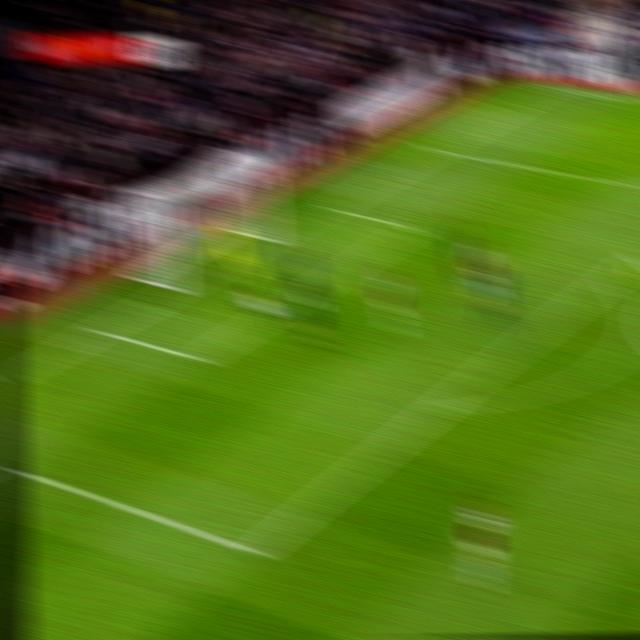bigarea_bottom_inner: (233, 531, 274, 571)
bigarea_top_outter: (419, 135, 450, 160)
bottom_arc_area_intersection: (422, 387, 461, 422)
corner: (530, 78, 566, 98)
smallarea_bottom_inner: (177, 340, 216, 375)
smallarea_bottom_outter: (82, 314, 118, 344)
smallarea_top_inner: (398, 211, 432, 241)
smallarea_top_outter: (310, 192, 344, 222)
top_arc_area_intersection: (589, 266, 623, 296)
